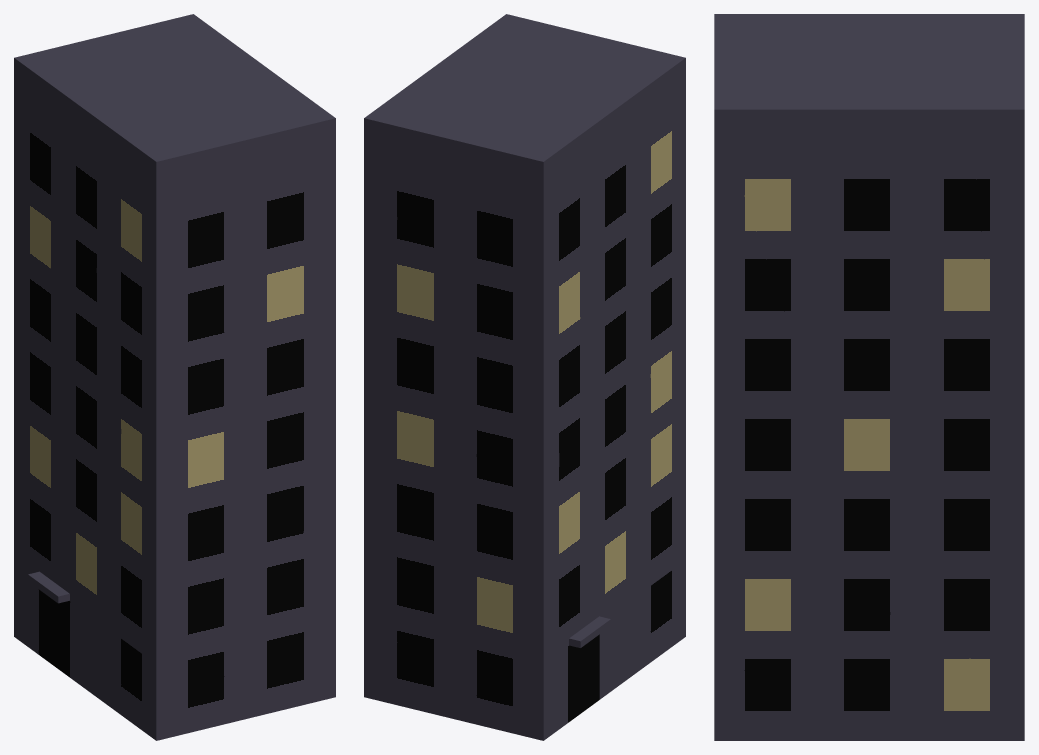
File: backHouse2.glb
3 views of the same model, side by side, from view 1: azimuth 30°, elevation 25°; view 2: azimuth 150°, elevation 25°; view 3: azimuth 270°, elevation 25° (orthographic). The views are drawn at different scales.
Parts seen in each view (by area): view 1: BackHouse; view 2: BackHouse; view 3: BackHouse.
Boxes of the visible parts, x1,y1,x2,y2 form: BackHouse: [14, 14, 335, 740]; BackHouse: [364, 14, 685, 740]; BackHouse: [714, 14, 1024, 740].
Size of the model in its own units: 8.09 by 23.42 by 10.44.
Materials: 1 (1 with a texture image).
